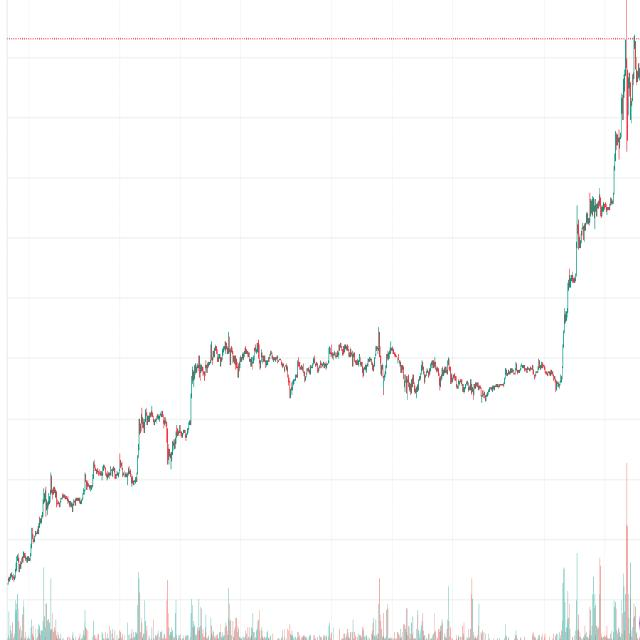rectangle: (182, 312, 571, 418)
